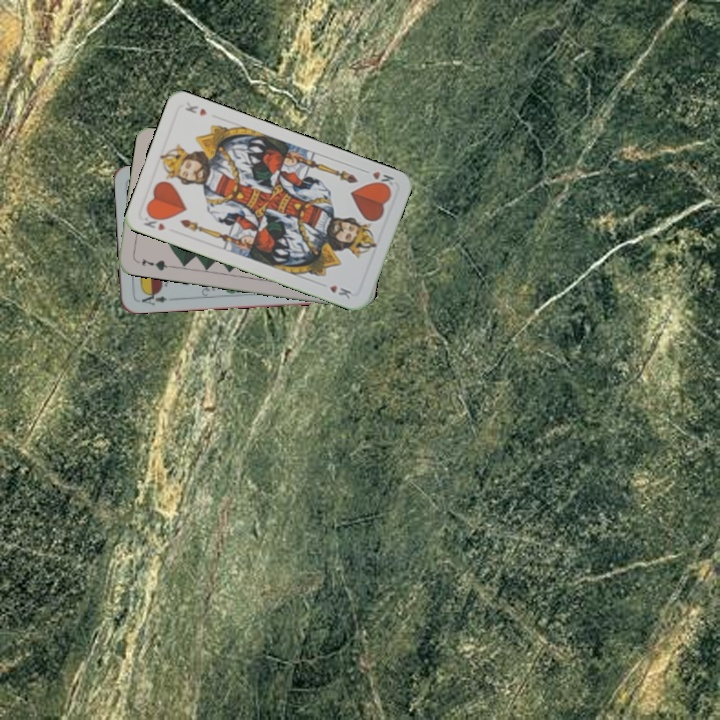EA: (138, 288, 169, 308)
G7: (138, 254, 172, 273)
HK: (366, 167, 397, 191), (139, 210, 168, 233)
